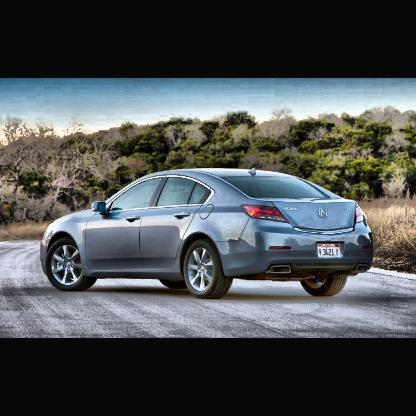Acura RL Sedan 2012: (42, 168, 375, 300)
